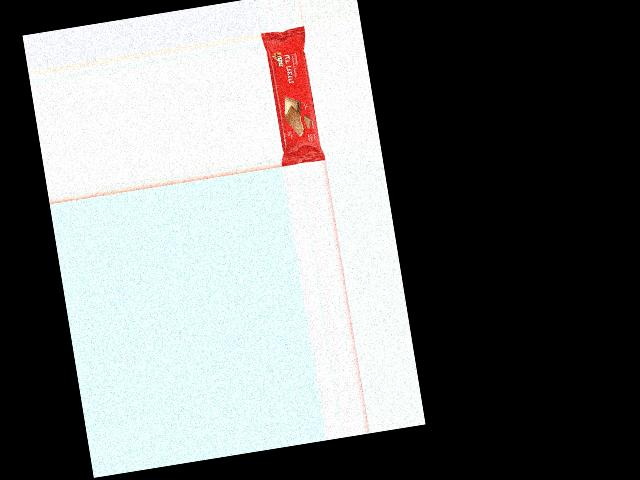chocolate: (261, 29, 326, 165)
